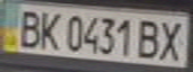0: (60, 11, 84, 53)
1: (115, 16, 136, 56)
3: (97, 15, 118, 56)
4: (81, 14, 100, 54)
B: (12, 7, 45, 48), (136, 17, 163, 60)
K: (33, 8, 63, 51)
X: (154, 17, 190, 62)
